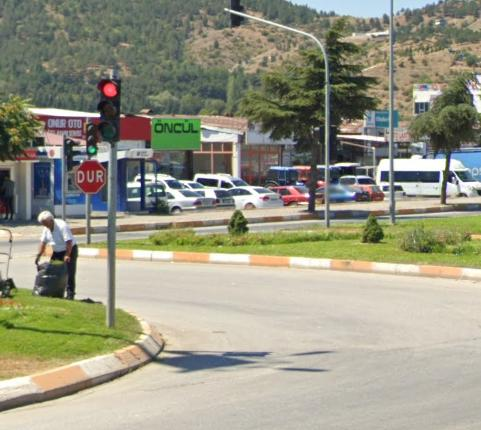greenlight: (86, 124, 97, 158)
redlight: (96, 79, 120, 143)
stop: (75, 159, 105, 192)
